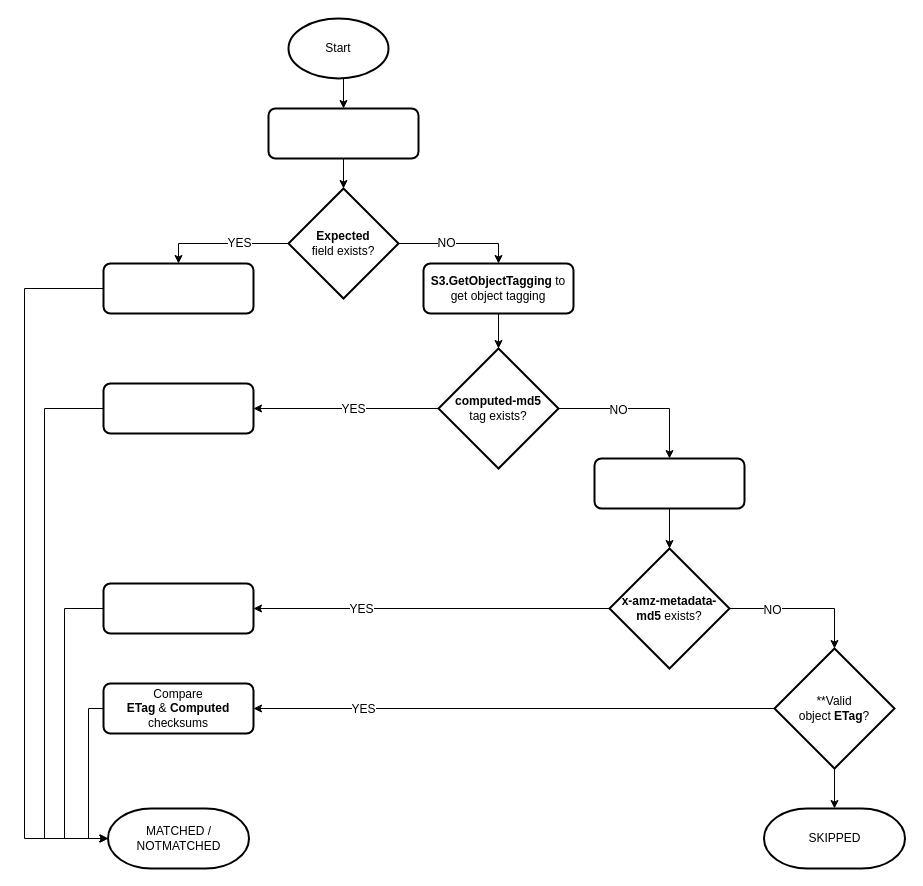
This 923x886 diagram has some shape labels left out. Here are the shapes that lost their labels. From the top down, the centre of each, then its label:
At (x=343, y=133): "POST request".
At (x=178, y=288): "Compare Expected & Computed checksums".
At (x=178, y=408): "Compare computed-md5 & Computed checksums".
At (x=669, y=483): "S3.HeadObject to get object metadata".
At (x=178, y=608): "Compare x-amz-metadata-md5 & Computed checksums".
